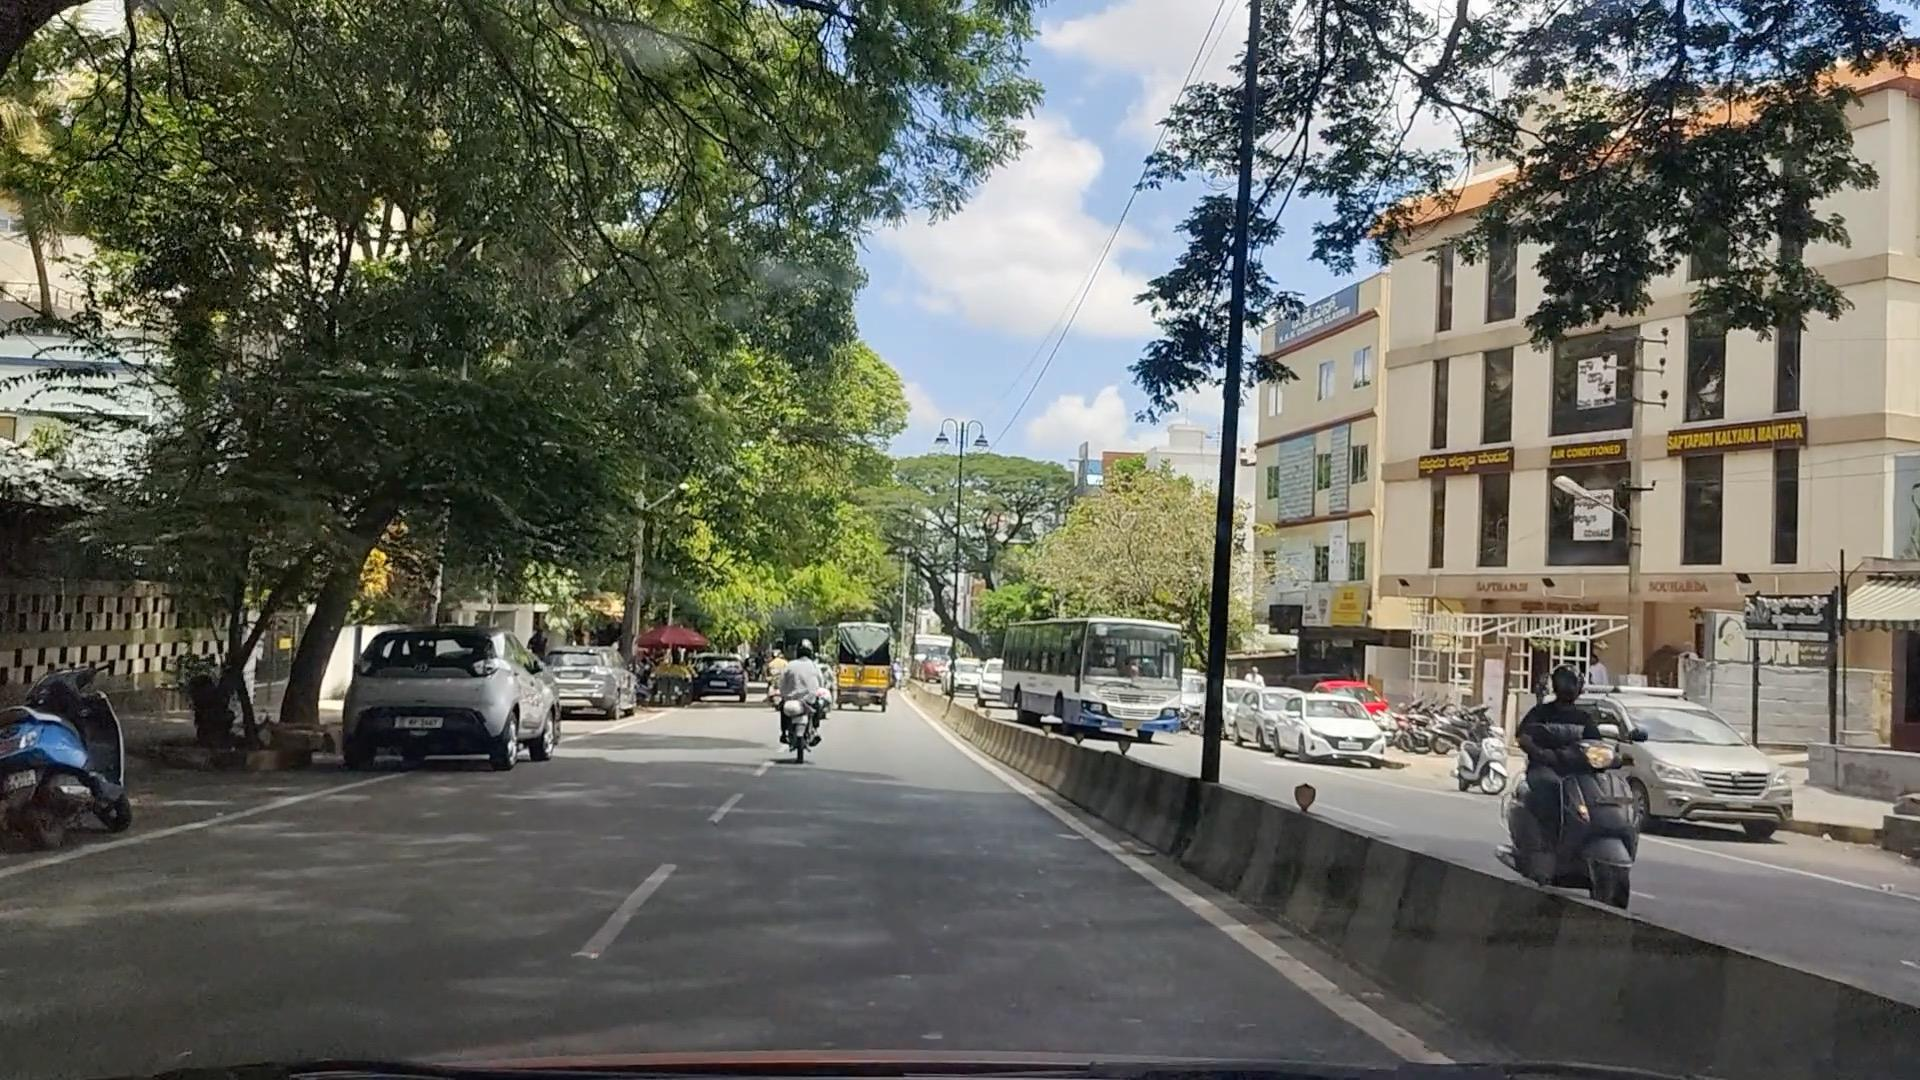LMV: (344, 626, 537, 775), (767, 633, 851, 757)
